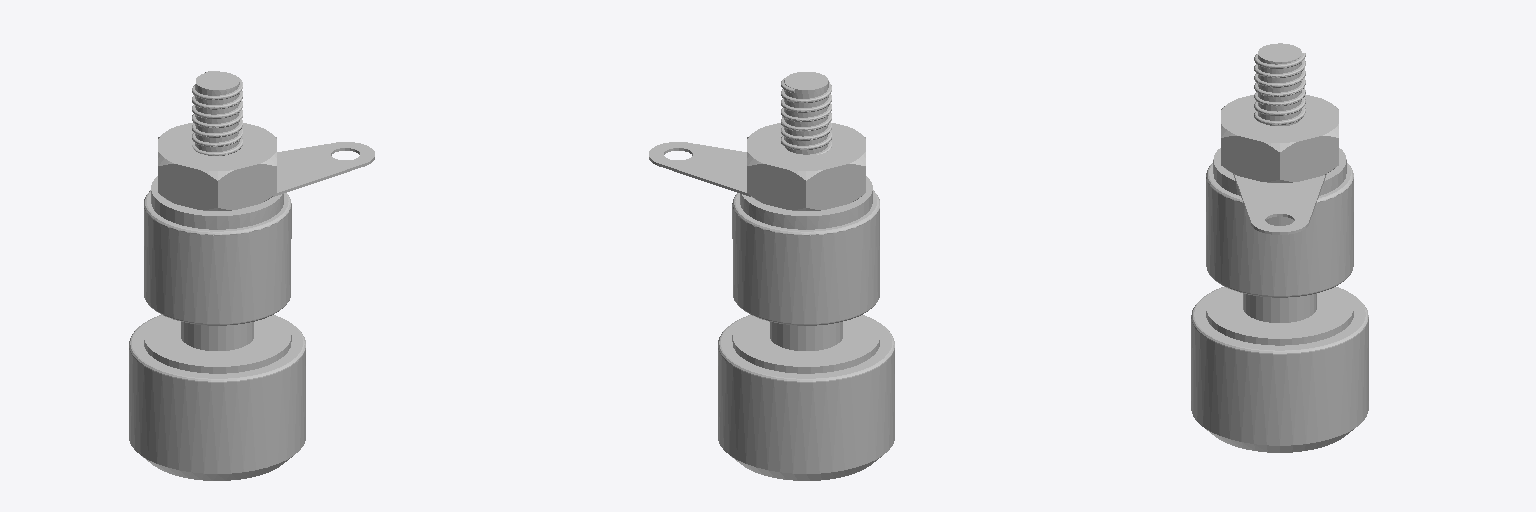
The model's file is BlackBanana v1.obj.
3 renders of one model, left to right at view 1: azimuth 30°, elevation 25°; view 2: azimuth 150°, elevation 25°; view 3: azimuth 270°, elevation 25°, orthographic.
Parts seen in each view (by area): view 1: Solid1; view 2: Solid1; view 3: Solid1.
Part boxes in pixels (left/top/right/bottom): Solid1: left=129, top=71, right=374, bottom=480; Solid1: left=649, top=72, right=894, bottom=480; Solid1: left=1191, top=43, right=1368, bottom=452.
Size of the model in its own units: 18 by 27.5 by 12.